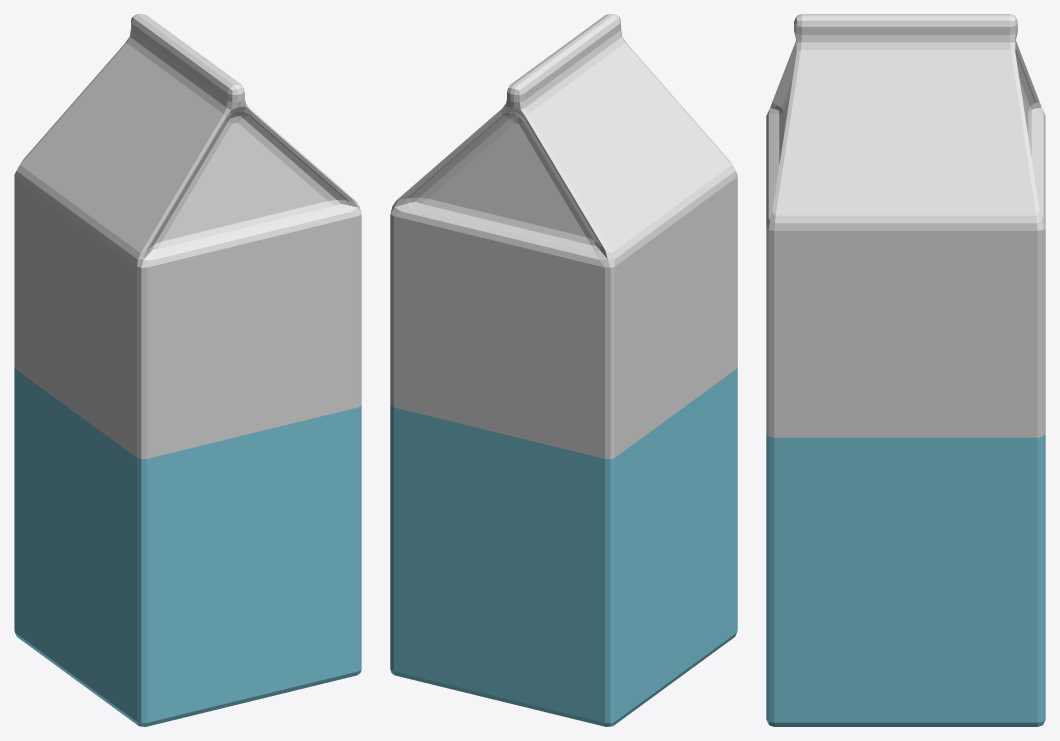
File: milk carton.fbx
The picture shows the model from 3 angles, left to right: view 1: azimuth 30°, elevation 25°; view 2: azimuth 150°, elevation 25°; view 3: azimuth 270°, elevation 25°; orthographic projection. The views are drawn at different scales.
Parts seen in each view (by area): view 1: Cube; view 2: Cube; view 3: Cube.
Boxes of the visible parts, box(x1,y1,x2,y2) form: Cube: box(14, 14, 361, 726); Cube: box(390, 14, 737, 726); Cube: box(766, 14, 1045, 726).
Bounding box in the file's own units: 200 × 518 × 200.
